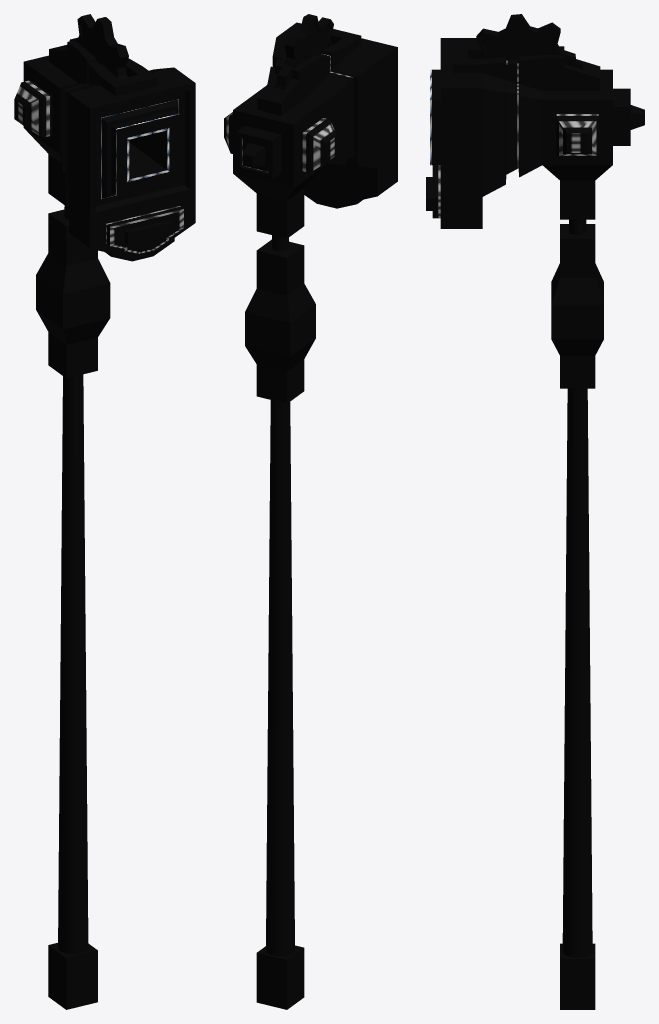
File: Dispenser_2_0.fbx
3 views of the same model, side by side, from view 1: azimuth 30°, elevation 25°; view 2: azimuth 150°, elevation 25°; view 3: azimuth 270°, elevation 25° (orthographic). The views are drawn at different scales.
Parts seen in each view (by area): view 1: Dispenser, Dispenser_Prop_0, Dispenser_Prop_1, Gear; view 2: Dispenser, Dispenser_Prop_0, Dispenser_Prop_1, Gear; view 3: Dispenser, Dispenser_Prop_0, Dispenser_Prop_1, Gear.
Part boxes in pixels (x1,y1,x2,y2): Dispenser: [14, 40, 195, 261]; Dispenser_Prop_0: [48, 154, 97, 1009]; Dispenser_Prop_1: [36, 209, 110, 378]; Gear: [69, 14, 128, 78]; Dispenser: [224, 22, 397, 208]; Dispenser_Prop_0: [256, 188, 304, 1009]; Dispenser_Prop_1: [245, 239, 315, 403]; Gear: [276, 14, 333, 89]; Dispenser: [426, 38, 644, 228]; Dispenser_Prop_0: [560, 180, 595, 1009]; Dispenser_Prop_1: [551, 224, 603, 388]; Gear: [476, 14, 576, 67].
Size of the model in its own units: 1.01 by 9.08 by 1.83.
Materials: 1 (1 with a texture image).
